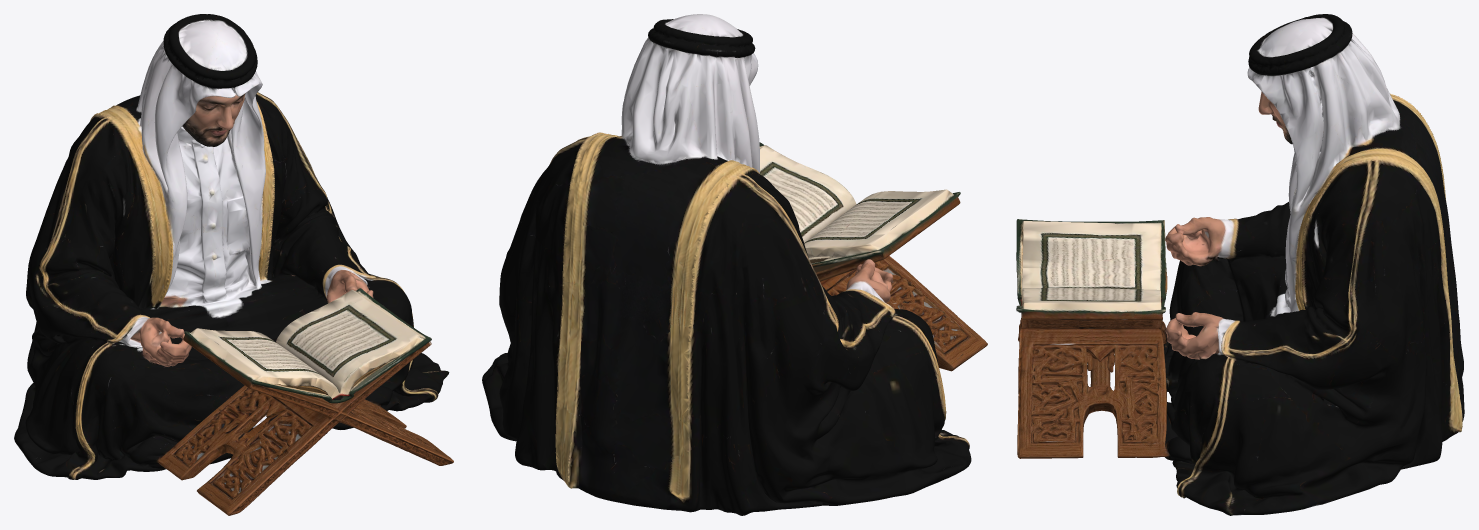
The model's file is reciter_young.glb.
3 renders of one model, left to right at view 1: azimuth 30°, elevation 25°; view 2: azimuth 150°, elevation 25°; view 3: azimuth 270°, elevation 25°, orthographic. The views are drawn at different scales.
Size of the model in its own units: 1.15 by 0.9997 by 1.04.
Materials: 1 (1 with a texture image).
